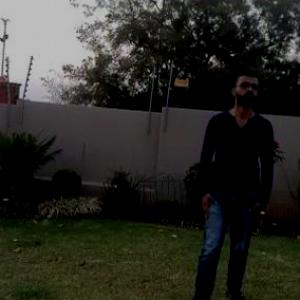follow: (186, 66, 274, 299)
